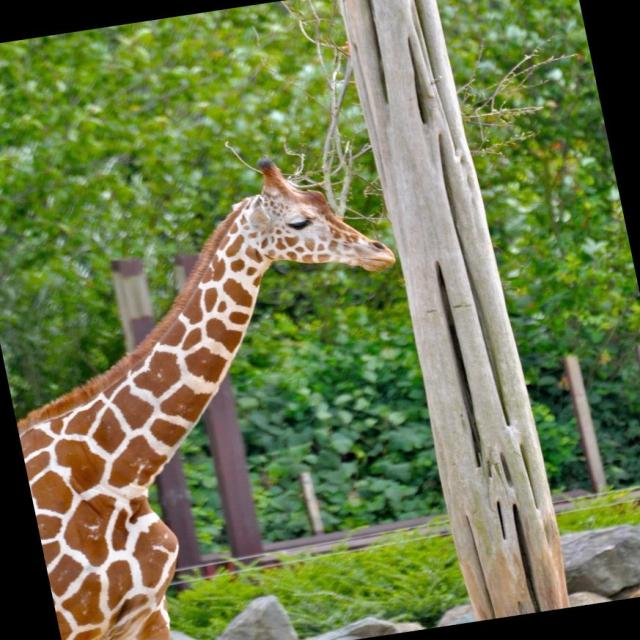Giraffe: (1, 148, 403, 640)
